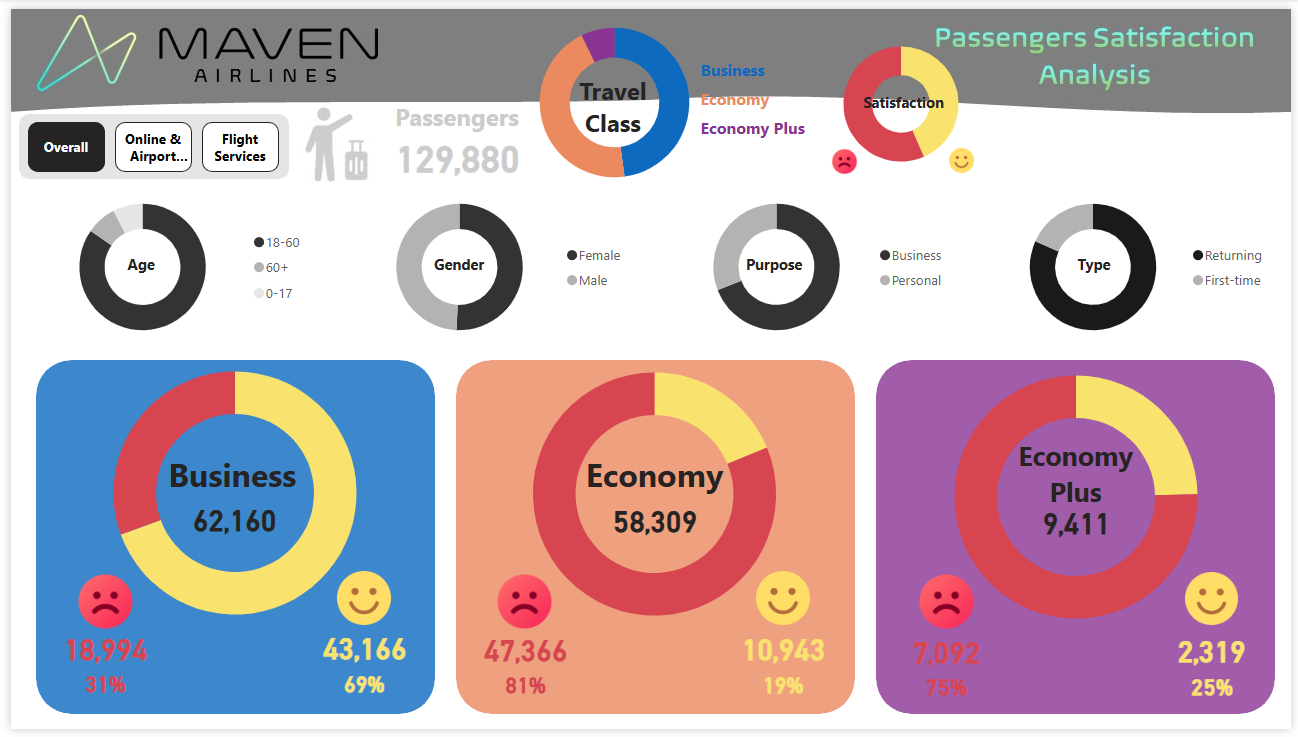

Layout of this report page (visuals, bound fields, positions):
{"tool":"powerbi","page":{"name":"Overall","canvas":[1280,720],"ordinal":0},"visuals":[{"type":"pieChart","fields":{"Y":["_Measures.Total Passengers"],"Series":["Data.Satisfaction"]},"box":[800.7,22.6,178.2,144.4],"z":0},{"type":"donutChart","fields":{"Category":["Data.Class"],"Y":["_Measures.Total Passengers"]},"box":[457.6,0.3,291,187.2],"z":1000},{"type":"textbox","box":[551.2,60,102.6,74.4],"z":2000},{"type":"donutChart","fields":{"Category":["Data.Age Range"],"Y":["_Measures.Total Passengers"]},"box":[20.3,178.2,280,160],"z":3000},{"type":"textbox","box":[92.5,240.2,76.7,36.1],"z":4000},{"type":"donutChart","fields":{"Category":["Data.Gender"],"Y":["_Measures.Total Passengers"]},"box":[341,178.2,280,160],"z":5000},{"type":"textbox","box":[367.4,86.3,158.7,49.2],"z":6000},{"type":"donutChart","fields":{"Category":["Data.Type of Travel"],"Y":["_Measures.Total Passengers"]},"box":[661.6,178.2,280,160],"z":7000},{"type":"textbox","box":[725.1,240.2,76.7,36.1],"z":8000},{"type":"donutChart","fields":{"Category":["Data.Customer Type"],"Y":["_Measures.Total Passengers"]},"box":[982.3,178.2,280,160],"z":9000},{"type":"textbox","box":[1045,240,77,36],"z":10000},{"type":"shape","box":[865,350.7,399.2,354.1],"z":11000},{"type":"shape","box":[24.8,350.7,399.2,354.1],"z":12000},{"type":"shape","box":[444.9,350.7,399.2,354.1],"z":13000},{"type":"donutChart","fields":{"Y":["_Measures.Total Passengers"],"Category":["Data.Satisfaction"]},"box":[66.5,330.4,314.6,307.9],"z":14000},{"type":"textbox","box":[133.1,437.6,178.2,64.3],"z":15000},{"type":"card","fields":{"Values":["_Measures.Satisfied"]},"box":[274,606.7,159,60.9],"z":16000},{"type":"card","fields":{"Values":["_Measures.Dissatisfied"]},"box":[20.3,609,148.9,58.6],"z":17000},{"type":"card","fields":{"Values":["_Measures.Total Passengers"]},"box":[144.4,469.1,159,81.2],"z":18000},{"type":"card","fields":{"Values":["_Measures.% Dissatisfied"]},"box":[20.3,655.2,148.9,39.5],"z":19000},{"type":"card","fields":{"Values":["_Measures.% Satisfied"]},"box":[274,654.1,157.9,40.6],"z":20000},{"type":"donutChart","fields":{"Y":["_Measures.Total Passengers"],"Category":["Data.Satisfaction"]},"box":[485.9,331.4,314.6,307.9],"z":21000},{"type":"textbox","box":[554.9,437.6,178.2,64.3],"z":22000},{"type":"card","fields":{"Values":["_Measures.Satisfied"]},"box":[693.4,607.7,159,60.9],"z":23000},{"type":"card","fields":{"Values":["_Measures.Dissatisfied"]},"box":[439.7,610,148.9,58.6],"z":24000},{"type":"card","fields":{"Values":["_Measures.Total Passengers"]},"box":[563.7,470.1,159,81.2],"z":25000},{"type":"card","fields":{"Values":["_Measures.% Dissatisfied"]},"box":[439.7,656.2,148.9,39.5],"z":26000},{"type":"card","fields":{"Values":["_Measures.% Satisfied"]},"box":[693.4,655.1,157.9,40.6],"z":27000},{"type":"donutChart","fields":{"Y":["_Measures.Total Passengers"],"Category":["Data.Satisfaction"]},"box":[907.7,333.7,314.6,307.9],"z":28000},{"type":"textbox","box":[975.5,422.9,178.2,86.8],"z":29000},{"type":"card","fields":{"Values":["_Measures.Satisfied"]},"box":[1121,610.1,159,60.9],"z":30000},{"type":"card","fields":{"Values":["_Measures.Dissatisfied"]},"box":[861.5,612.2,148.9,58.6],"z":31000},{"type":"card","fields":{"Values":["_Measures.Total Passengers"]},"box":[985.5,472.4,159,81.2],"z":32000},{"type":"card","fields":{"Values":["_Measures.% Dissatisfied"]},"box":[861.5,658.5,148.9,39.5],"z":33000},{"type":"card","fields":{"Values":["_Measures.% Satisfied"]},"box":[1122.1,657.5,157.9,40.6],"z":34000},{"type":"card","fields":{"Values":["_Measures.Total Passengers"]},"box":[367.3,106,159,81.2],"z":35000},{"type":"textbox","box":[685.4,45.4,122.9,42.9],"z":36000},{"type":"textbox","box":[685.4,73.6,122.9,38.3],"z":37000},{"type":"textbox","box":[685.4,102.9,122.9,38.3],"z":38000},{"type":"image","box":[326,562.4,53.5,53.5],"z":39000},{"type":"image","box":[64.7,562.4,59.5,60.4],"z":40000},{"type":"image","box":[905.7,562.4,59.5,60.4],"z":41000},{"type":"image","box":[483.9,562.4,59.5,60.4],"z":42000},{"type":"image","box":[745.2,562.4,53.5,53.5],"z":43000},{"type":"image","box":[1173.9,562.4,53.5,53.5],"z":44000},{"type":"image","box":[938,139,25,25],"z":45000},{"type":"image","box":[819.9,138.9,27.6,27.6],"z":46000},{"type":"textbox","box":[844,78,98,37],"z":47000},{"type":"textbox","box":[411,240,75,36],"z":48000},{"type":"shape","box":[8,105,270,65],"z":48001},{"type":"pageNavigator","box":[17,113,252,50],"z":48002}]}

Visuals, with their boxes in screenshot pixels (x1, y1, x2, y2), scaled from the page's 1280x720 canvas onto the 1298x737 screenshot:
pieChart - _Measures.Total Passengers x Data.Satisfaction: bbox(812, 23, 993, 171)
donutChart - Data.Class x _Measures.Total Passengers: bbox(464, 0, 759, 192)
textbox: bbox(559, 61, 663, 138)
donutChart - Data.Age Range x _Measures.Total Passengers: bbox(21, 182, 305, 346)
textbox: bbox(94, 246, 172, 283)
donutChart - Data.Gender x _Measures.Total Passengers: bbox(346, 182, 630, 346)
textbox: bbox(373, 88, 533, 139)
donutChart - Data.Type of Travel x _Measures.Total Passengers: bbox(671, 182, 955, 346)
textbox: bbox(735, 246, 813, 283)
donutChart - Data.Customer Type x _Measures.Total Passengers: bbox(996, 182, 1280, 346)
textbox: bbox(1060, 246, 1138, 283)
shape: bbox(877, 359, 1282, 721)
shape: bbox(25, 359, 430, 721)
shape: bbox(451, 359, 856, 721)
donutChart - _Measures.Total Passengers x Data.Satisfaction: bbox(67, 338, 386, 653)
textbox: bbox(135, 448, 316, 514)
card - _Measures.Satisfied: bbox(278, 621, 439, 683)
card - _Measures.Dissatisfied: bbox(21, 623, 172, 683)
card - _Measures.Total Passengers: bbox(146, 480, 308, 563)
card - _Measures.% Dissatisfied: bbox(21, 671, 172, 711)
card - _Measures.% Satisfied: bbox(278, 670, 438, 711)
donutChart - _Measures.Total Passengers x Data.Satisfaction: bbox(493, 339, 812, 654)
textbox: bbox(563, 448, 743, 514)
card - _Measures.Satisfied: bbox(703, 622, 864, 684)
card - _Measures.Dissatisfied: bbox(446, 624, 597, 684)
card - _Measures.Total Passengers: bbox(572, 481, 733, 564)
card - _Measures.% Dissatisfied: bbox(446, 672, 597, 712)
card - _Measures.% Satisfied: bbox(703, 671, 863, 712)
donutChart - _Measures.Total Passengers x Data.Satisfaction: bbox(920, 342, 1239, 657)
textbox: bbox(989, 433, 1170, 522)
card - _Measures.Satisfied: bbox(1137, 625, 1297, 687)
card - _Measures.Dissatisfied: bbox(874, 627, 1025, 687)
card - _Measures.Total Passengers: bbox(999, 484, 1161, 567)
card - _Measures.% Dissatisfied: bbox(874, 674, 1025, 714)
card - _Measures.% Satisfied: bbox(1138, 673, 1297, 715)
card - _Measures.Total Passengers: bbox(372, 109, 534, 192)
textbox: bbox(695, 46, 820, 90)
textbox: bbox(695, 75, 820, 115)
textbox: bbox(695, 105, 820, 145)
image: bbox(331, 576, 385, 630)
image: bbox(66, 576, 126, 638)
image: bbox(918, 576, 979, 638)
image: bbox(491, 576, 551, 638)
image: bbox(756, 576, 810, 630)
image: bbox(1190, 576, 1245, 630)
image: bbox(951, 142, 977, 168)
image: bbox(831, 142, 859, 170)
textbox: bbox(856, 80, 955, 118)
textbox: bbox(417, 246, 493, 283)
shape: bbox(8, 107, 282, 174)
pageNavigator: bbox(17, 116, 273, 167)
